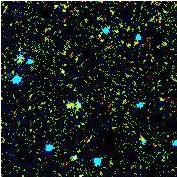star: (44, 0, 74, 29)
